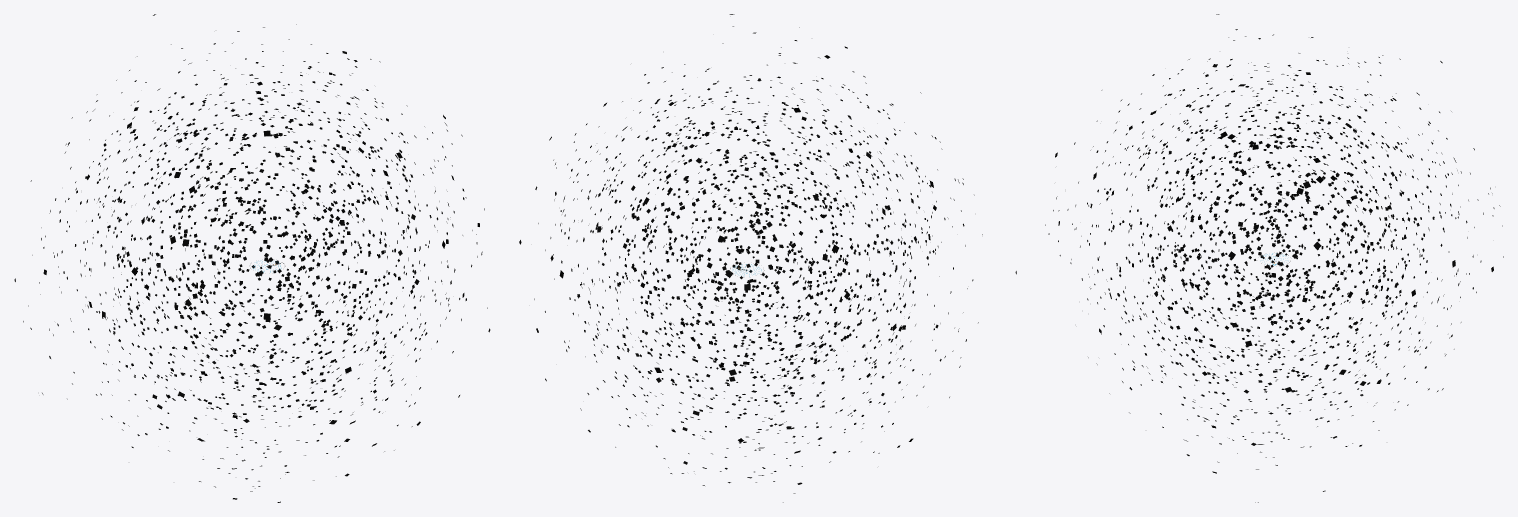
The model's file is SolarSystem_Anim.FBX.
The picture shows the model from 3 angles, left to right: view 1: azimuth 30°, elevation 25°; view 2: azimuth 150°, elevation 25°; view 3: azimuth 270°, elevation 25°; orthographic projection. The views are drawn at different scales.
Visible parts, largest first — view 1: StarCards; view 2: StarCards; view 3: StarCards.
Boxes of the visible parts, box(x1,y1,x2,y2) form: StarCards: box(14, 14, 490, 502); StarCards: box(519, 14, 1016, 502); StarCards: box(1045, 14, 1503, 502).
Bounding box in the file's own units: 2107 × 2025 × 1971.
